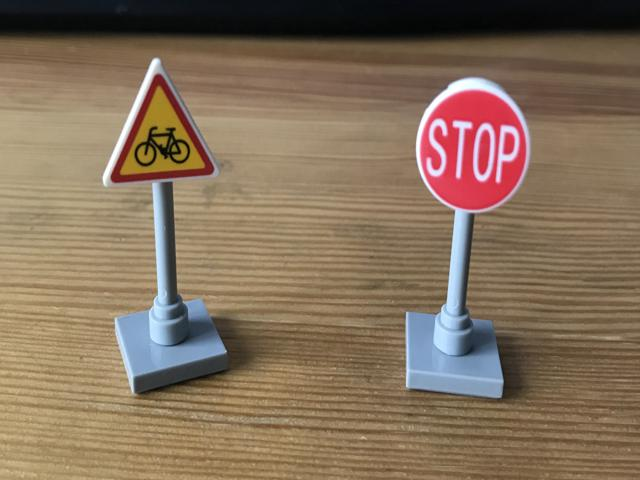radfahrer: (104, 71, 216, 186)
stop: (412, 85, 533, 213)
